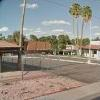Palm tree: (61, 1, 96, 41)
